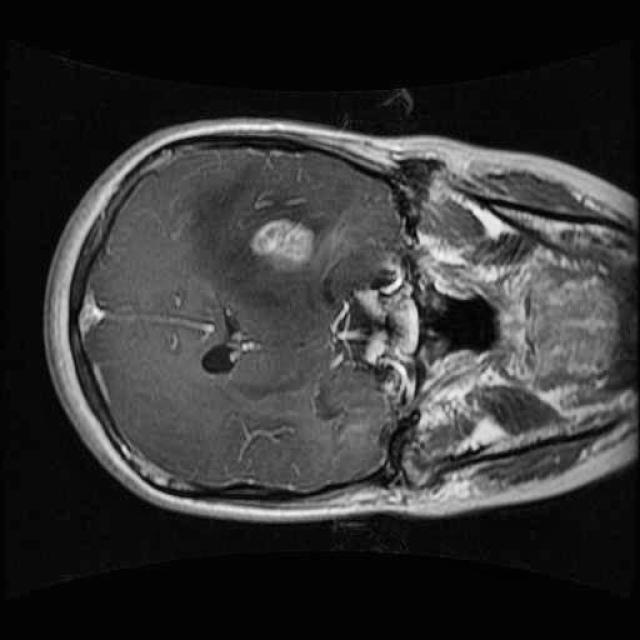Tumor: (238, 199, 328, 283)
